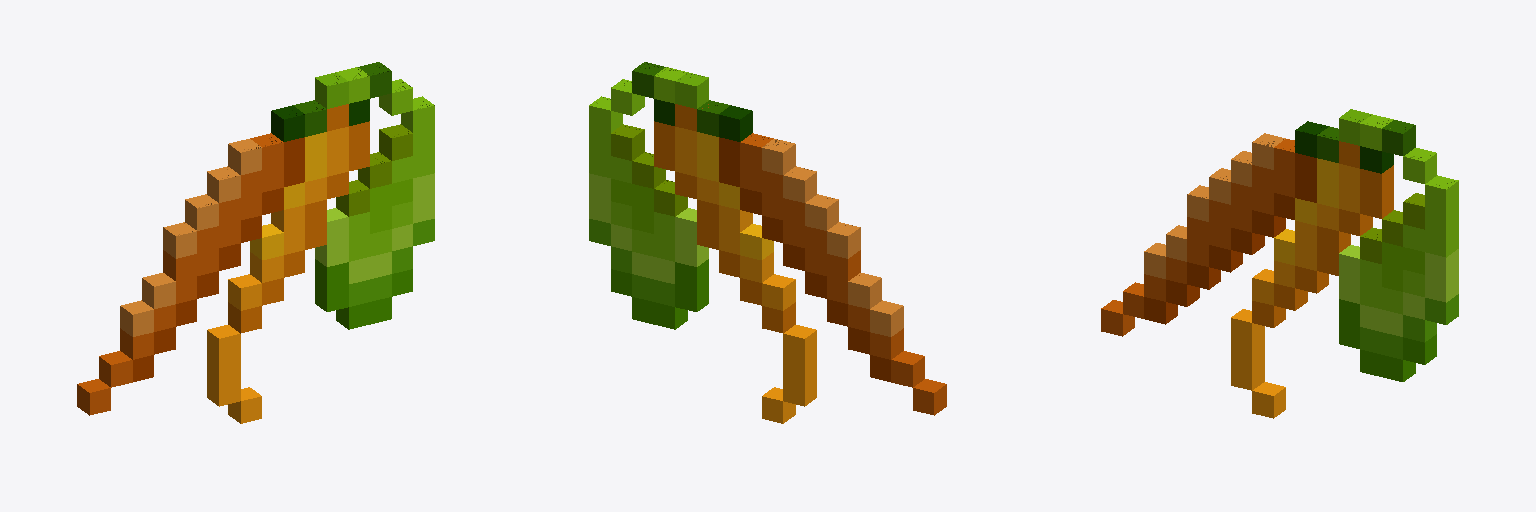
3 views of the same model, side by side, from view 1: azimuth 30°, elevation 25°; view 2: azimuth 150°, elevation 25°; view 3: azimuth 330°, elevation 25° (orthographic).
Bounding box in the file's own units: 1 × 0.875 × 0.0625.
1 materials, 1 textured.